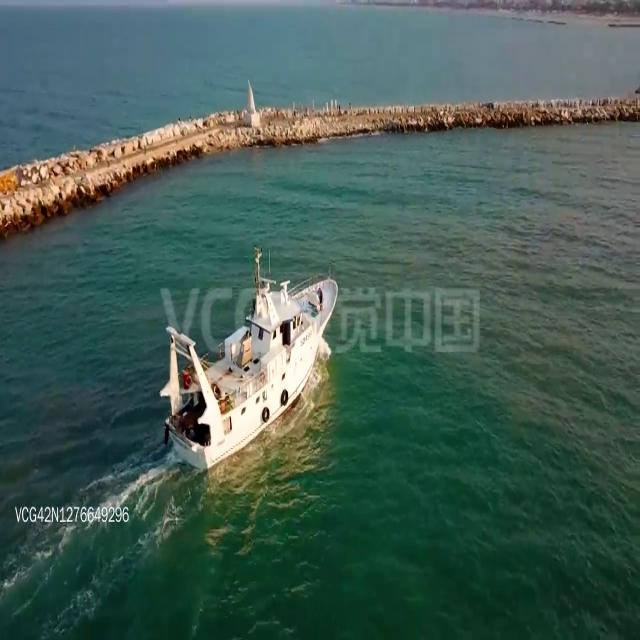houseboat: (157, 266, 340, 466)
